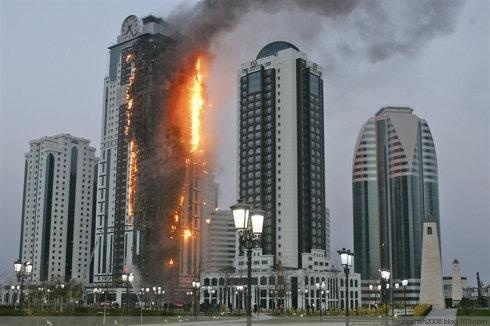fire: (121, 58, 141, 227), (185, 56, 208, 151), (169, 195, 195, 241)
